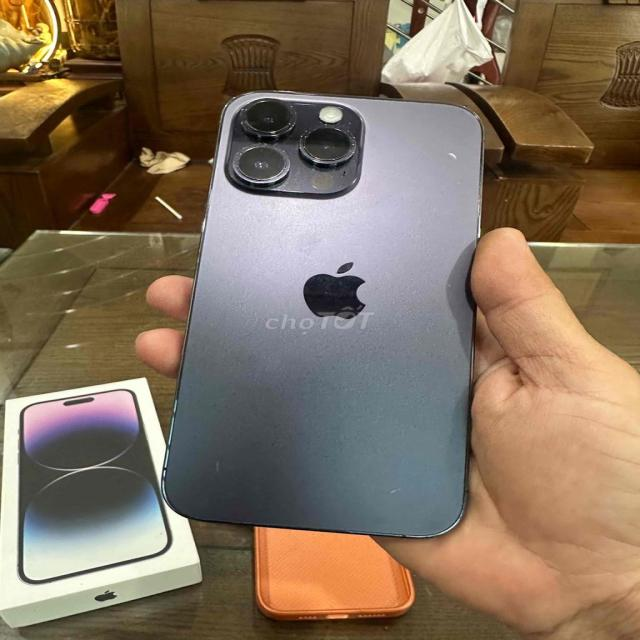gen_14: (153, 84, 503, 550)
scratch: (228, 95, 362, 196), (385, 479, 414, 496), (445, 149, 468, 170), (212, 456, 227, 477)
